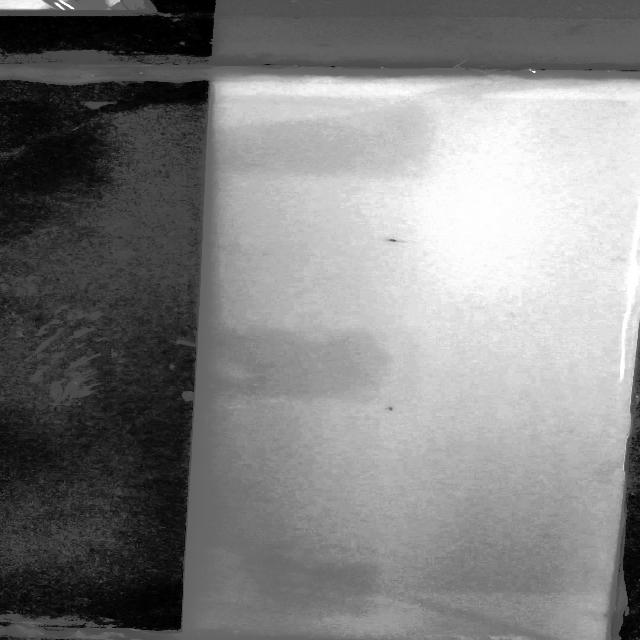shrimp: (374, 233, 431, 248), (380, 398, 410, 421)
